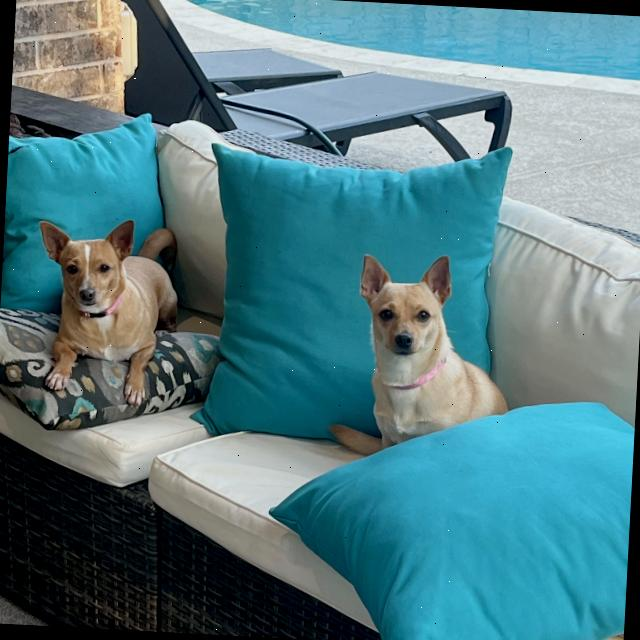chihuahua_dog: (350, 248, 460, 368), (28, 209, 142, 321)
